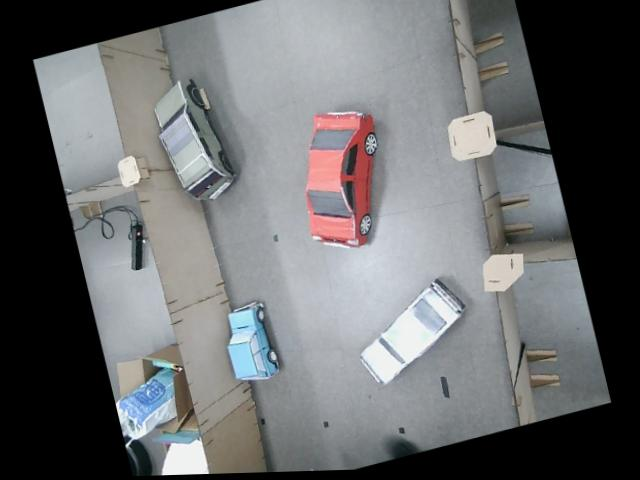car: (283, 99, 401, 258), (347, 272, 478, 389), (147, 71, 240, 210), (219, 298, 282, 386)
